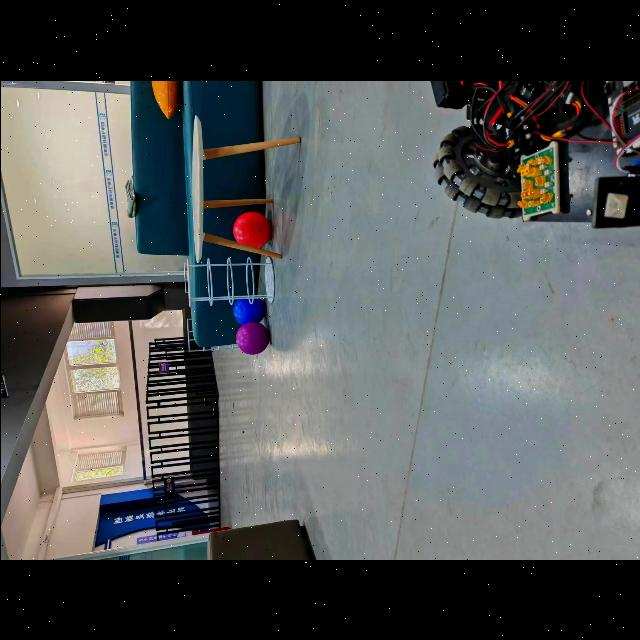B: (232, 298, 264, 324)
P: (235, 321, 269, 355)
R: (232, 211, 271, 247)
S: (183, 257, 274, 306)
